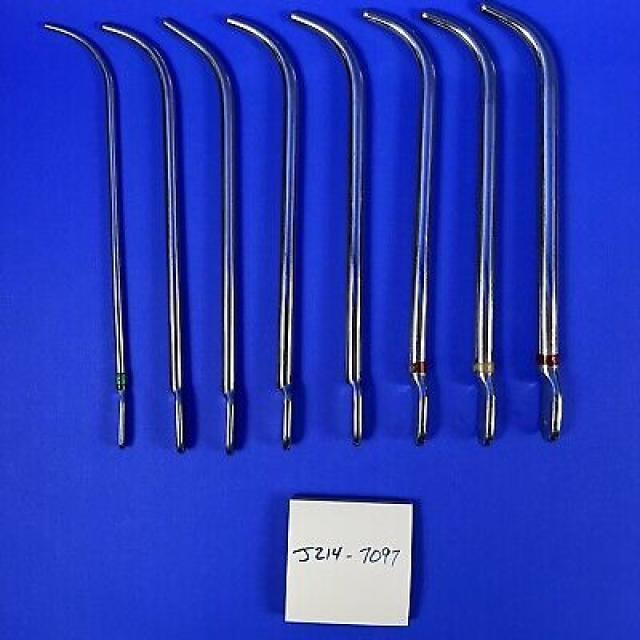Urethral Dilators: (38, 15, 144, 462), (472, 3, 572, 449), (104, 13, 202, 463), (416, 3, 513, 448), (282, 0, 378, 446), (152, 9, 246, 458), (358, 8, 446, 450), (225, 2, 305, 454)
